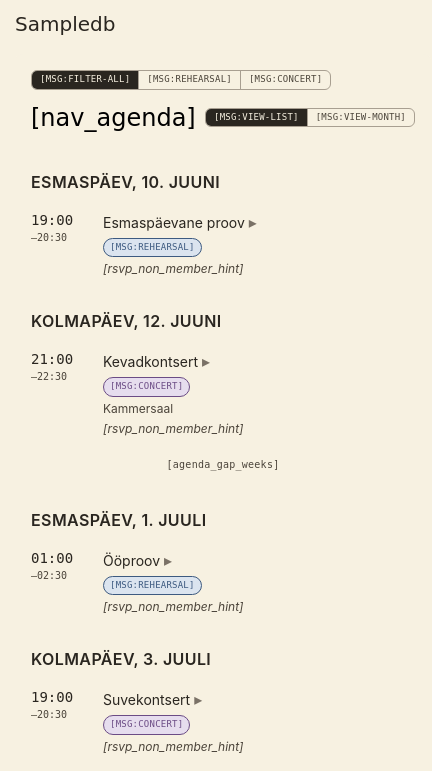
Test: #247 — the compact row: EXACTLY weekday key + day number + title + type badge › the date column is wide enough for a two-character weekday + two-digit day
Click the button "[msg:view-month]". click: (361, 118)
box: [308,109,414,126]
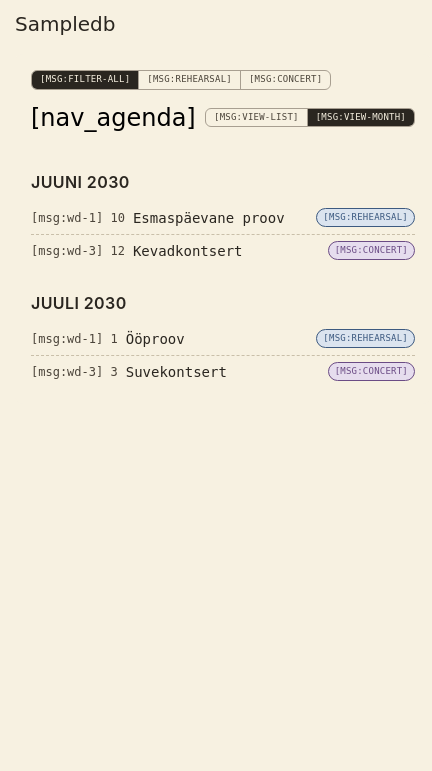
Expected: the text "[msg:wd-3] 12" is shown, [31,242,125,258]
